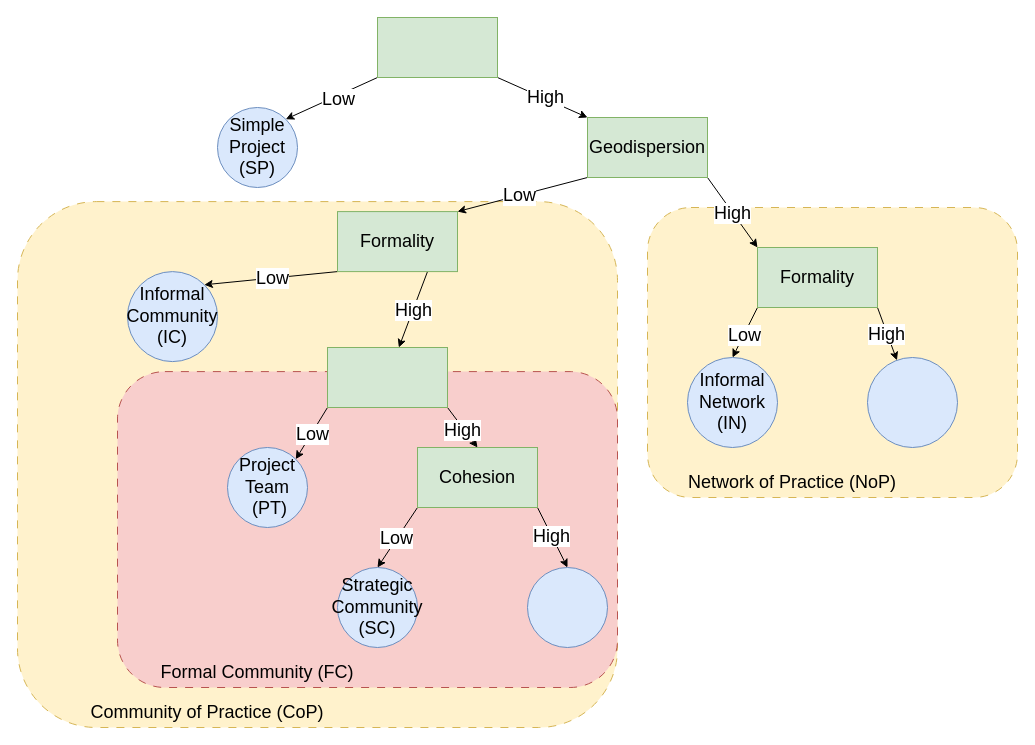
This 1035x745 diagram has some shape labels left out. Each missing label, with the box of its shape:
Formal Network (FN): (866, 356, 958, 448)
Longevity: (326, 346, 448, 408)
Structure: (376, 16, 498, 78)
Workgroup (WG): (526, 566, 608, 648)
